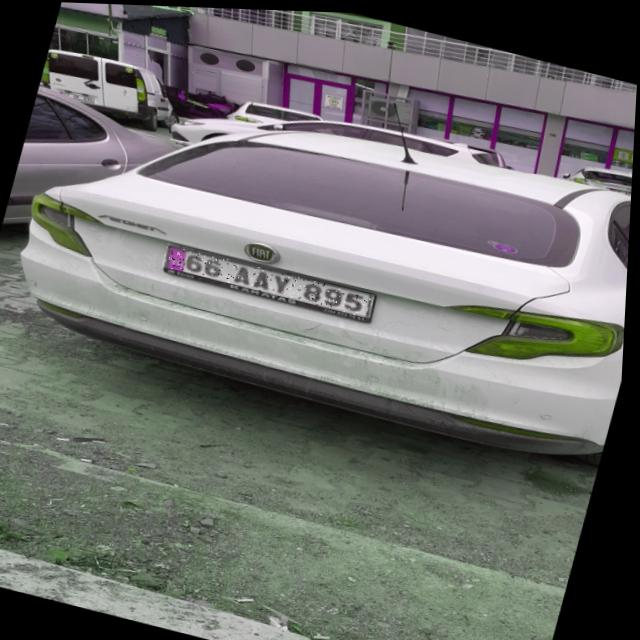license_plate: (162, 241, 379, 315)
